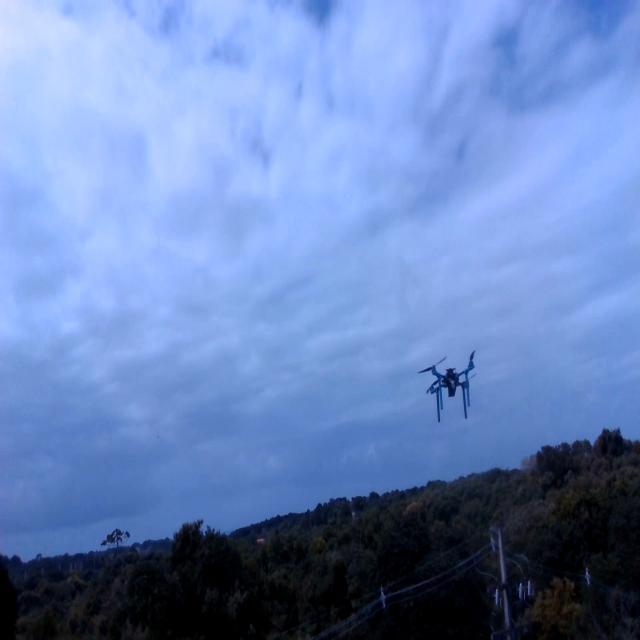-uav-: (415, 342, 485, 433)
